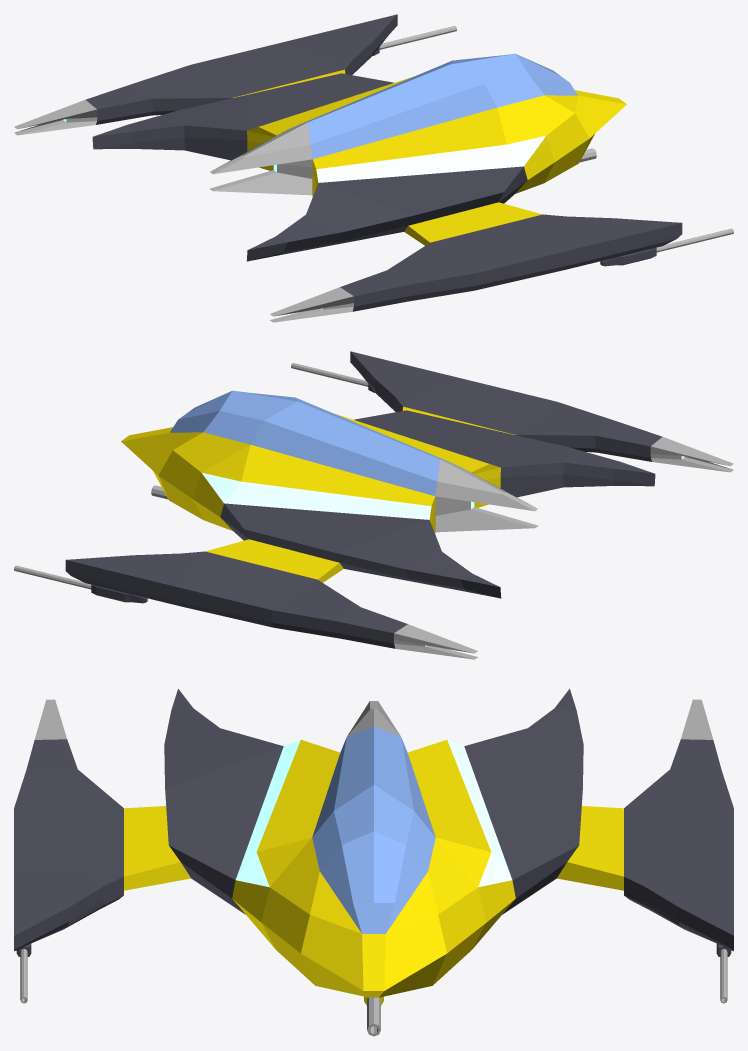
File: Player Space Ship.fbx
3 views of the same model, one above another, from view 1: azimuth 30°, elevation 25°; view 2: azimuth 150°, elevation 25°; view 3: azimuth 270°, elevation 25° (orthographic). The views are drawn at different scales.
Visible parts, largest first — view 1: Ship, SideCannons; view 2: Ship, SideCannons; view 3: Ship, SideCannons, MainCannon.
Boxes of the visible parts, x1,y1,x2,y2 form: Ship: (14, 14, 682, 322); SideCannons: (372, 26, 733, 266); Ship: (65, 351, 733, 659); SideCannons: (14, 363, 375, 603); Ship: (14, 689, 733, 997); SideCannons: (16, 943, 731, 1003); MainCannon: (364, 996, 383, 1036).
Size of the model in its own units: 872 by 228 by 897.
